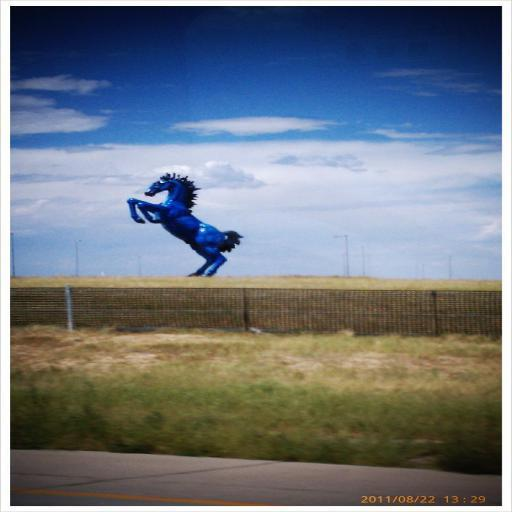horse: (127, 170, 246, 276)
